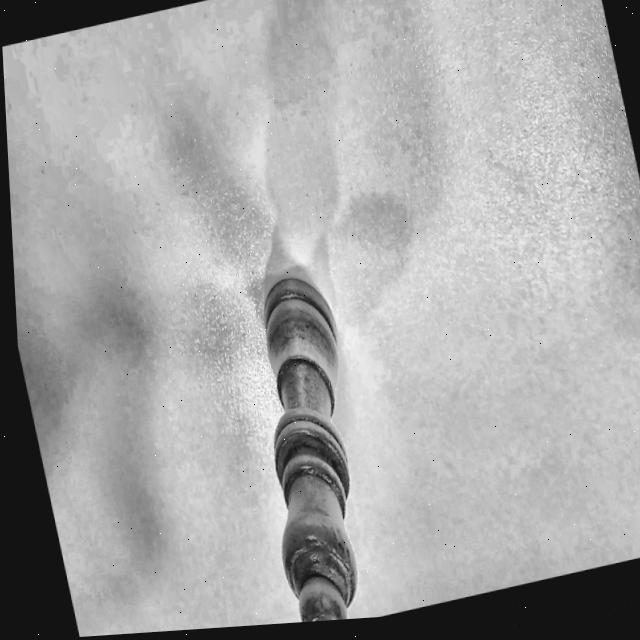black-queen: (211, 242, 411, 627)
